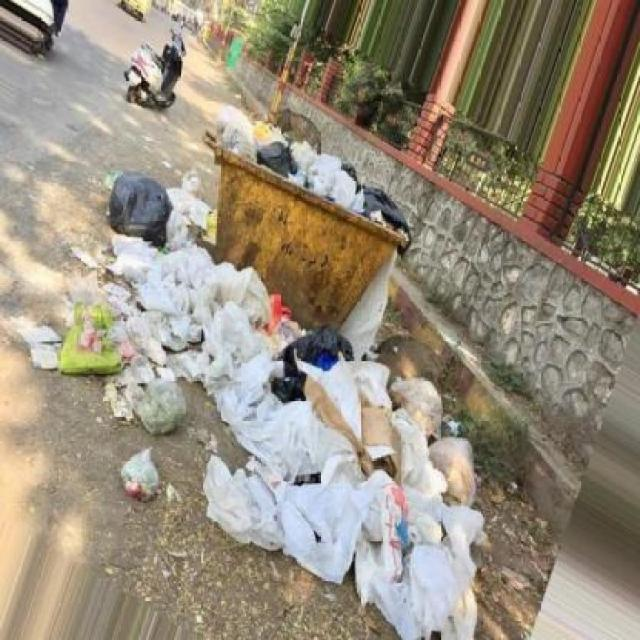garbage: (186, 303, 471, 640), (103, 157, 194, 450), (208, 120, 409, 231)
